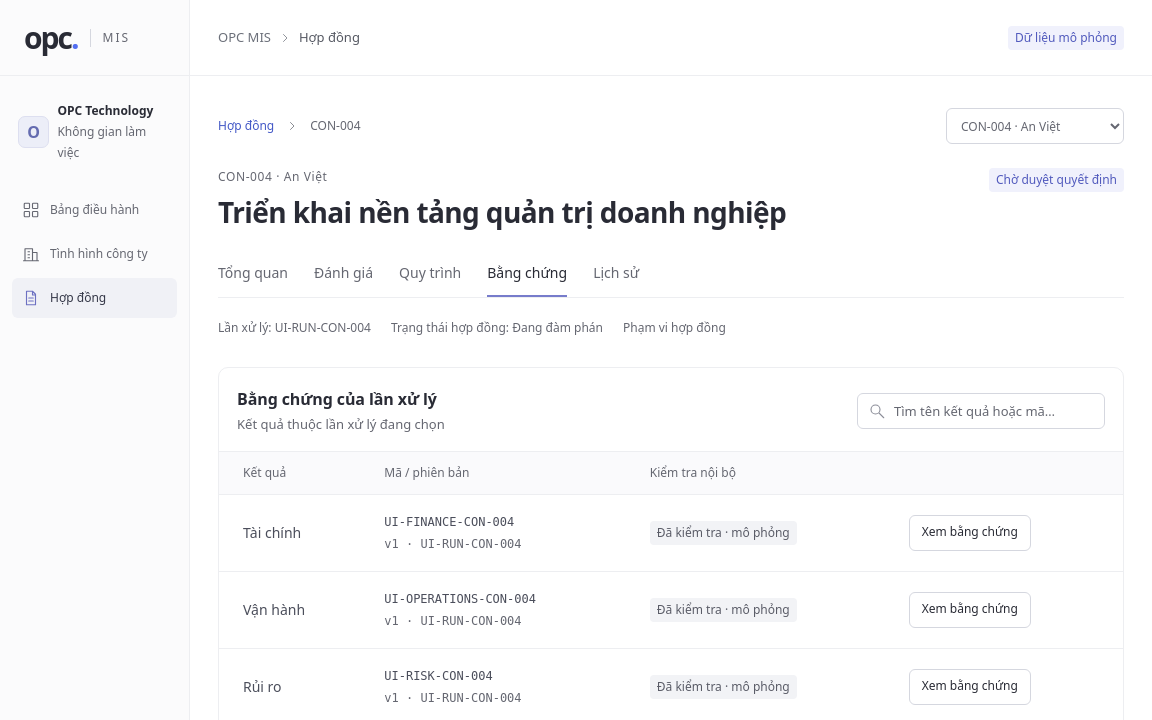
Test: isolated executive preview › preserves risk artifact lineage after evidence search
Type "RISK" into the field named "Tìm bằng chứng" at (994, 411), box [894, 395, 1094, 427]
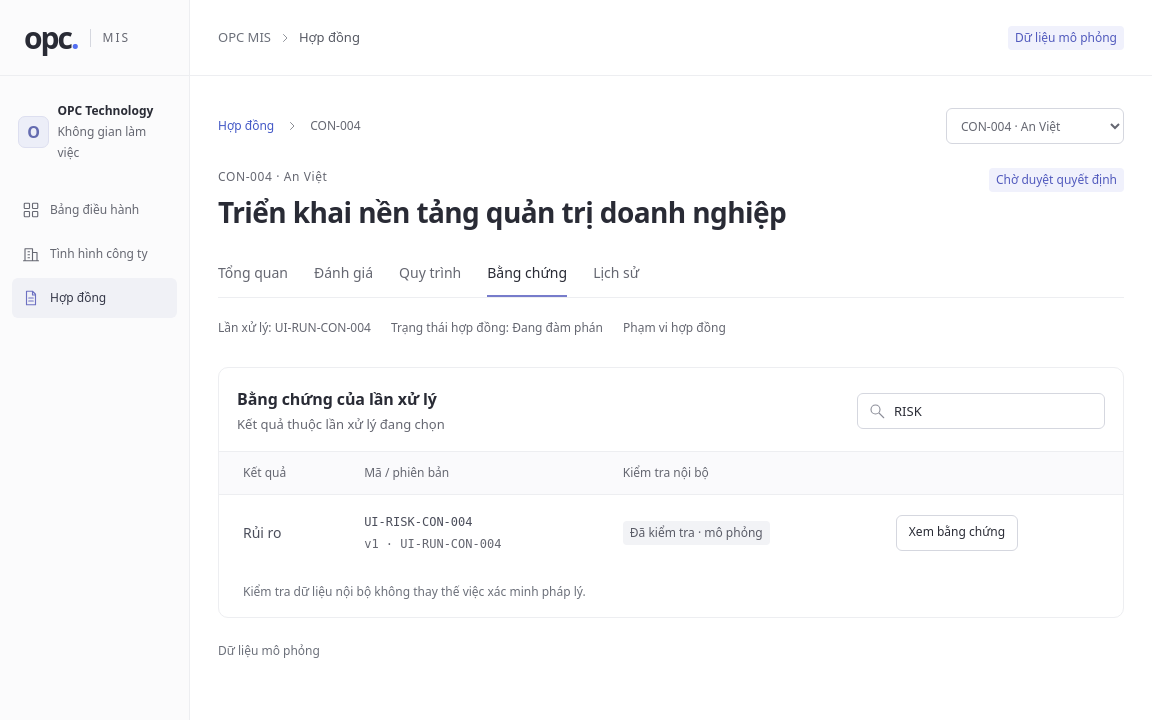
Click the button "Xem bằng chứng" at (957, 533), box [896, 515, 1018, 551]
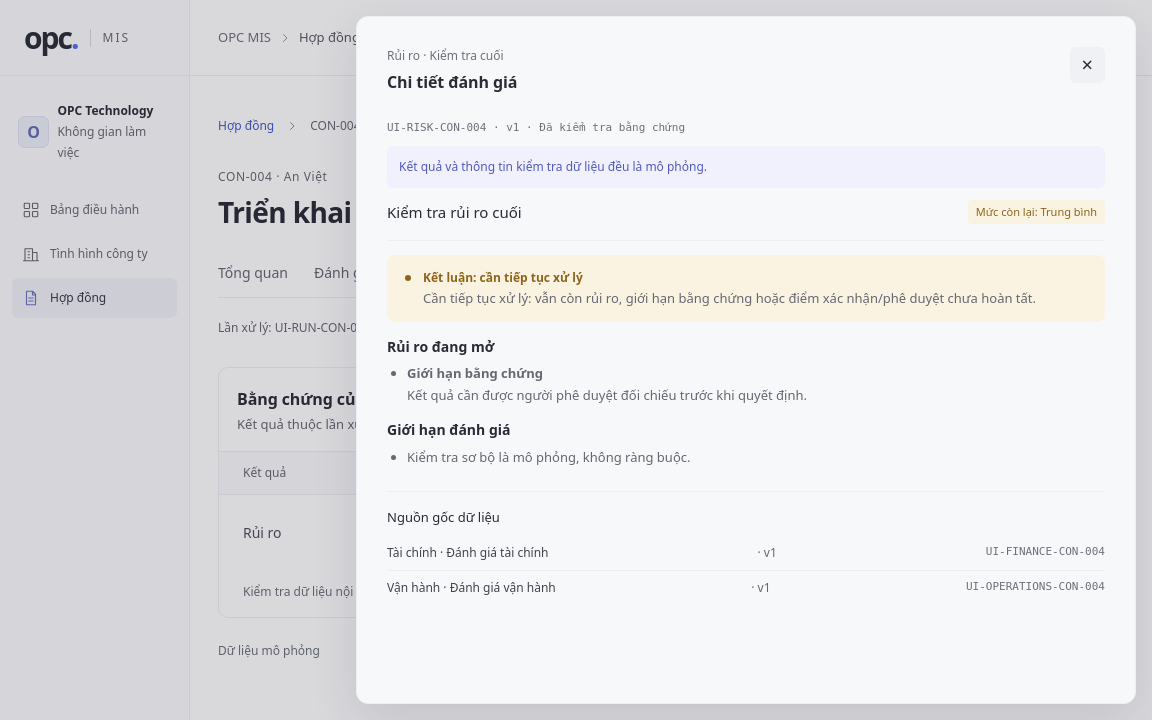
Expected: the dialog shows "UI-RISK-CON-004", [387, 121, 486, 134]
Expected: the dialog shows "UI-FINANCE-CON-004", [986, 545, 1105, 558]
